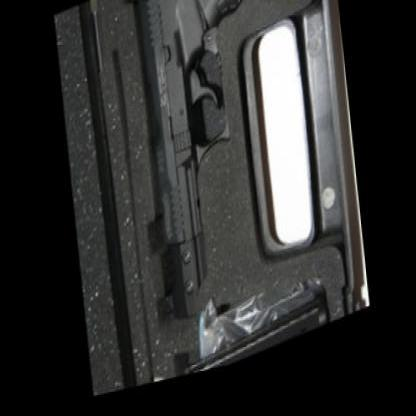pistol: (124, 0, 320, 344)
